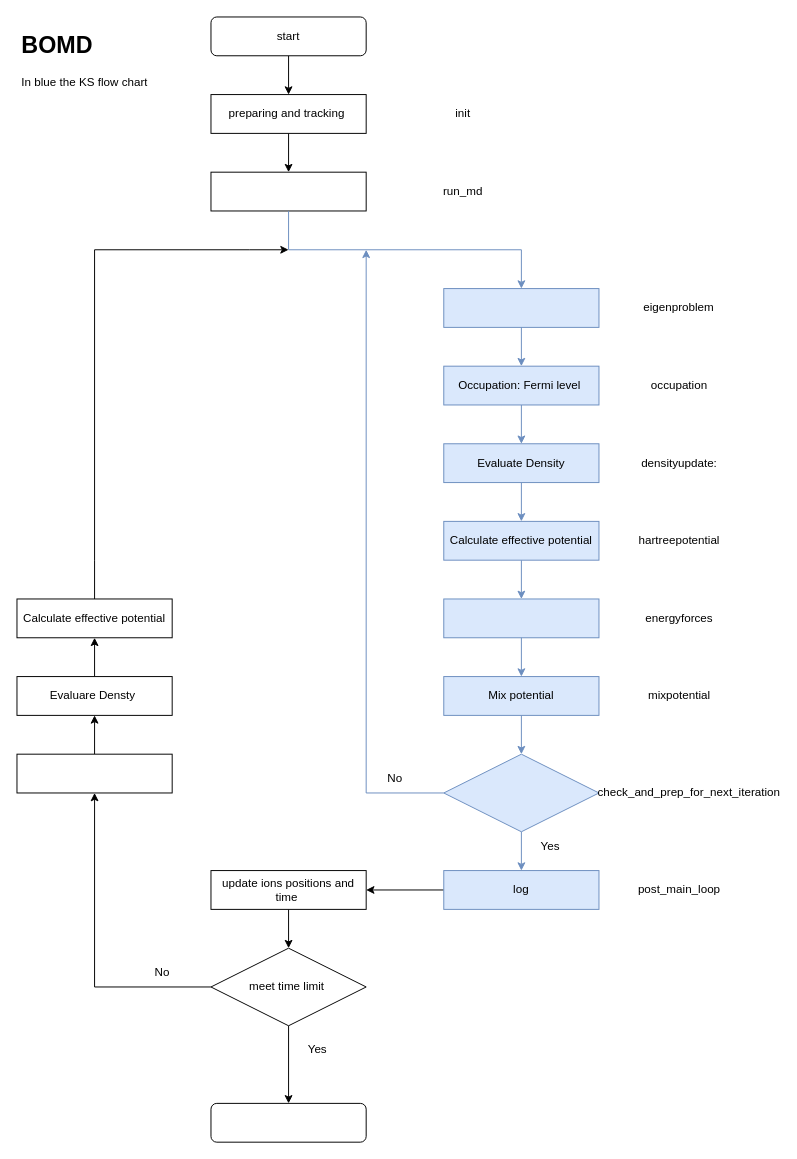
This 797x1159 diagram has some shape labels left out. The centre of each missing label's shape, as x and y in pixels:
"get forces on ions & energy" belongs at (521,618).
"Is self-consistent" belongs at (521,792).
"Output data" belongs at (288,1122).
"predict the wave function" belongs at (94,773).
"set initial conditions (like velocities)" belongs at (288,191).
"Solve KS equations" belongs at (521,307).
